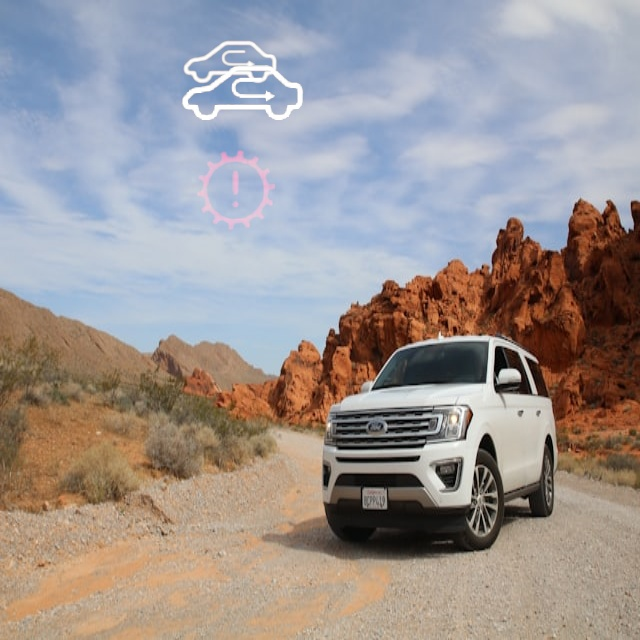symbol: (163, 15, 323, 175), (163, 118, 309, 264), (169, 2, 292, 125)
